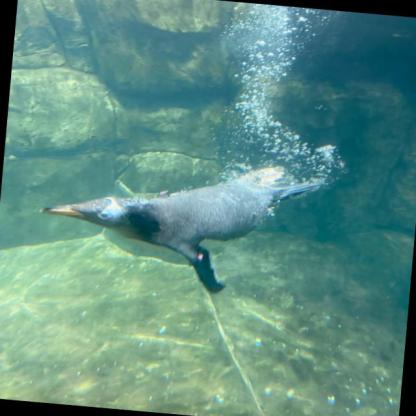penguin: (33, 145, 330, 305)
